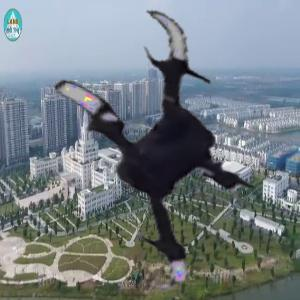drone: (1, 5, 285, 289)
